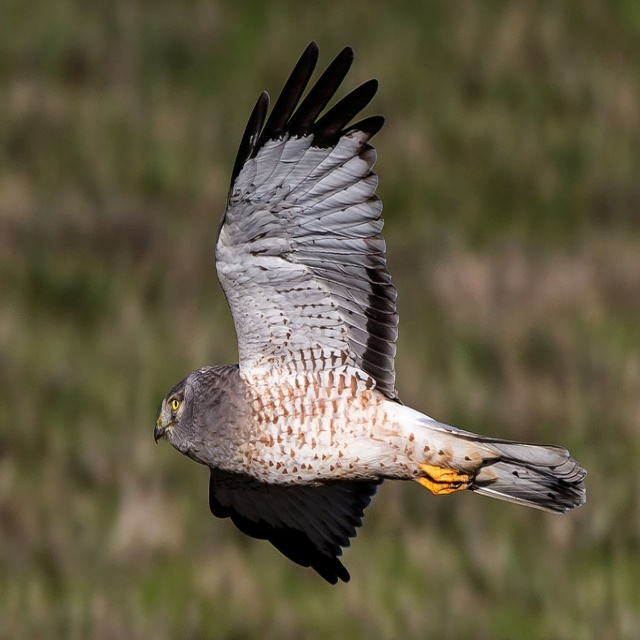Eagle: (156, 37, 586, 585)
